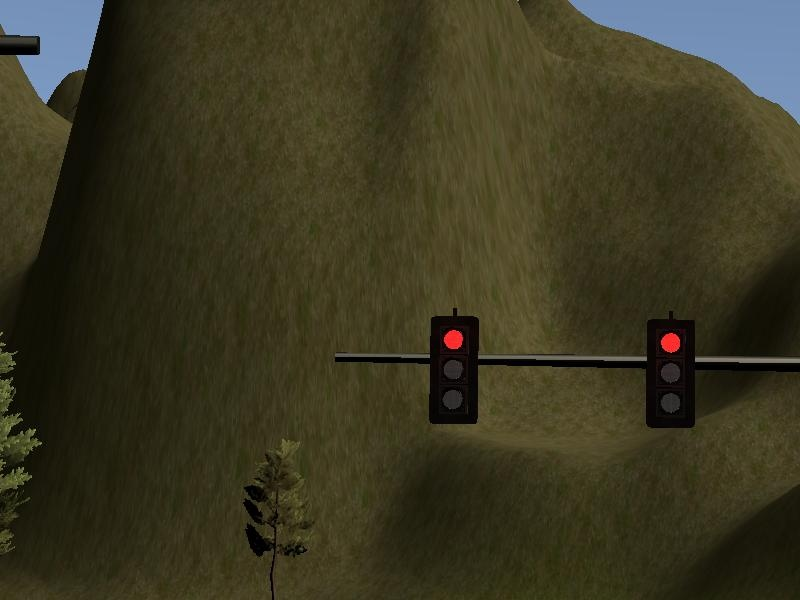RED: (646, 316, 694, 427), (430, 315, 475, 422)
